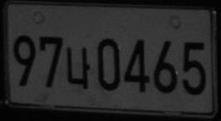0: (96, 37, 121, 91)
4: (122, 39, 150, 93)
5: (181, 41, 207, 96)
6: (151, 40, 178, 93)
7: (38, 35, 65, 87)
9: (12, 33, 37, 87)
나: (66, 46, 90, 89)
